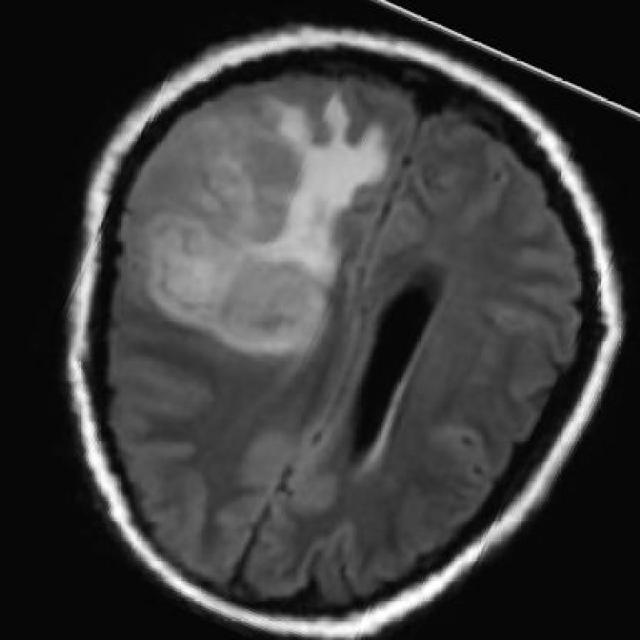Brain-Tumor: (113, 60, 401, 368)
